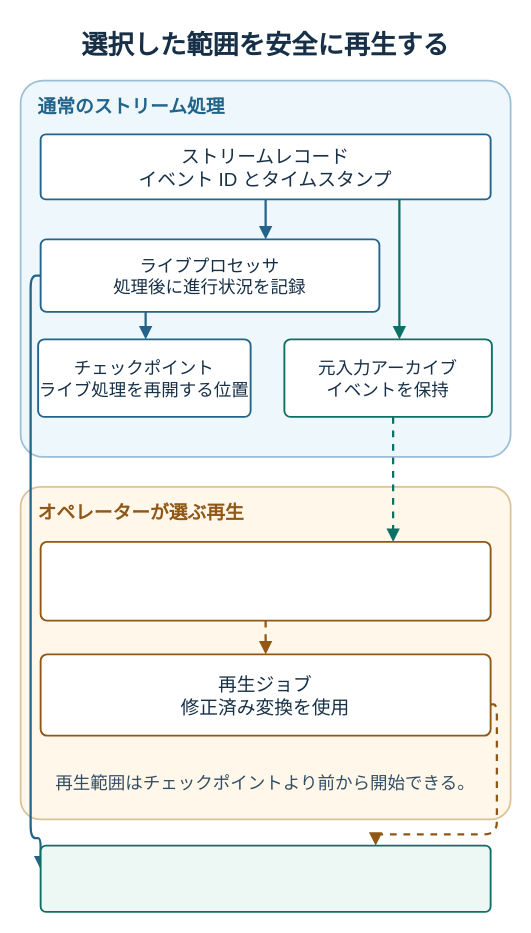
Image size: 531x933. Some labels were removed from this diagram. Each missing label, with the box of its shape:
べき等更新で公開 安定したイベントまたはビジネスキーを使う: (39, 844, 491, 912)
影響範囲の開始、終了、入力バージョンを選ぶ: (39, 540, 491, 621)
